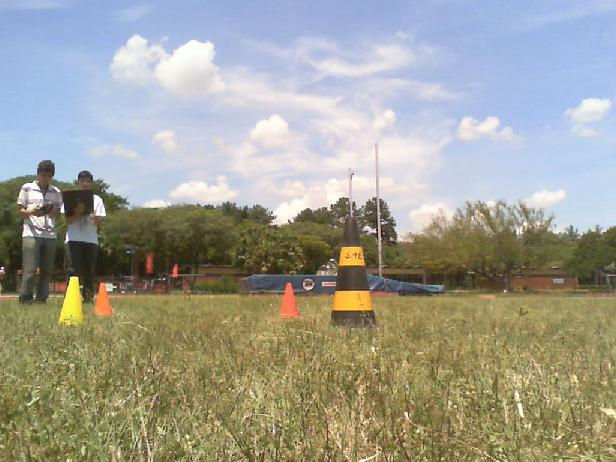0 cone: (329, 216, 383, 332), (57, 277, 85, 326), (279, 283, 299, 317), (95, 284, 112, 316)
